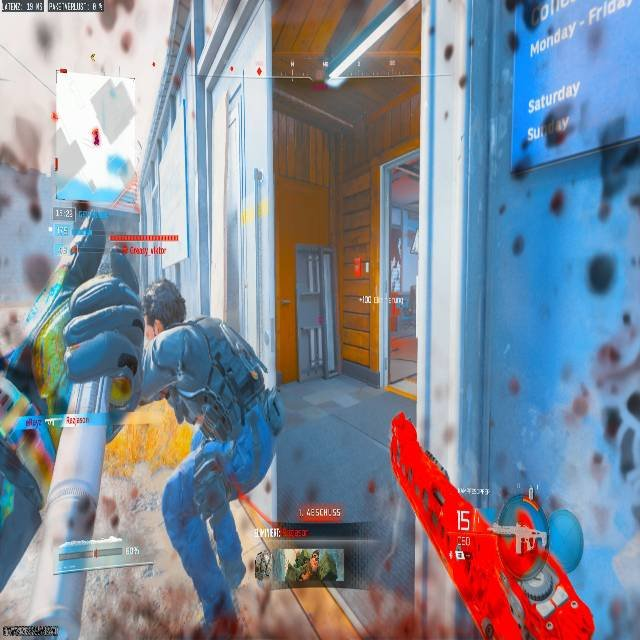head: (59, 241, 141, 297), (140, 279, 187, 337)
player: (113, 278, 282, 639), (29, 238, 155, 635)
